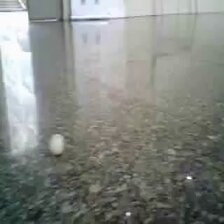w: (46, 133, 68, 156)
